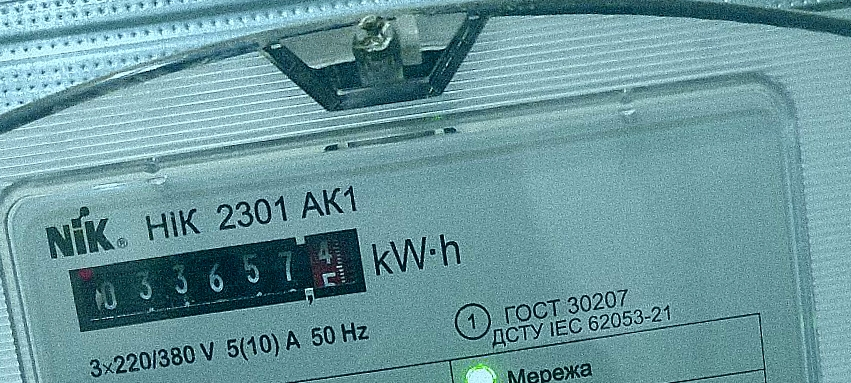0: (95, 275, 121, 315)
3: (132, 266, 156, 303), (168, 261, 190, 298)
4: (313, 236, 336, 268)
5: (237, 249, 263, 287)
6: (202, 259, 226, 296)
7: (274, 246, 296, 284)
screen: (54, 219, 376, 342)
